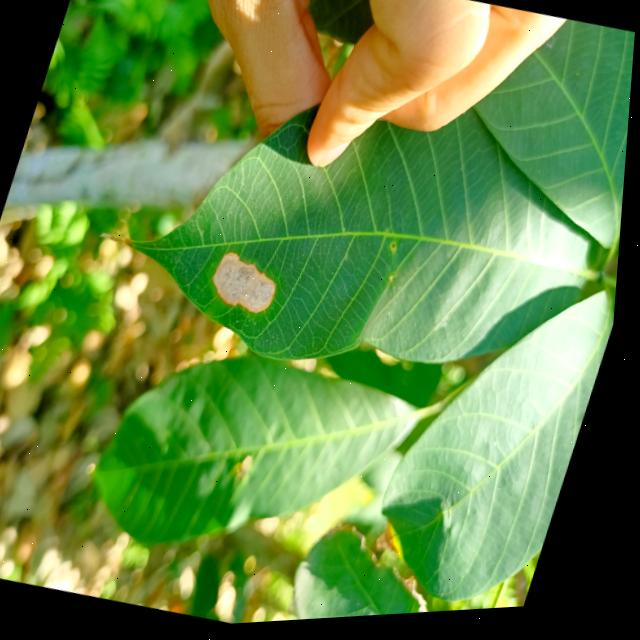Colletotrichum: (394, 247, 399, 254)
Leaf-Blight: (208, 251, 289, 320)
